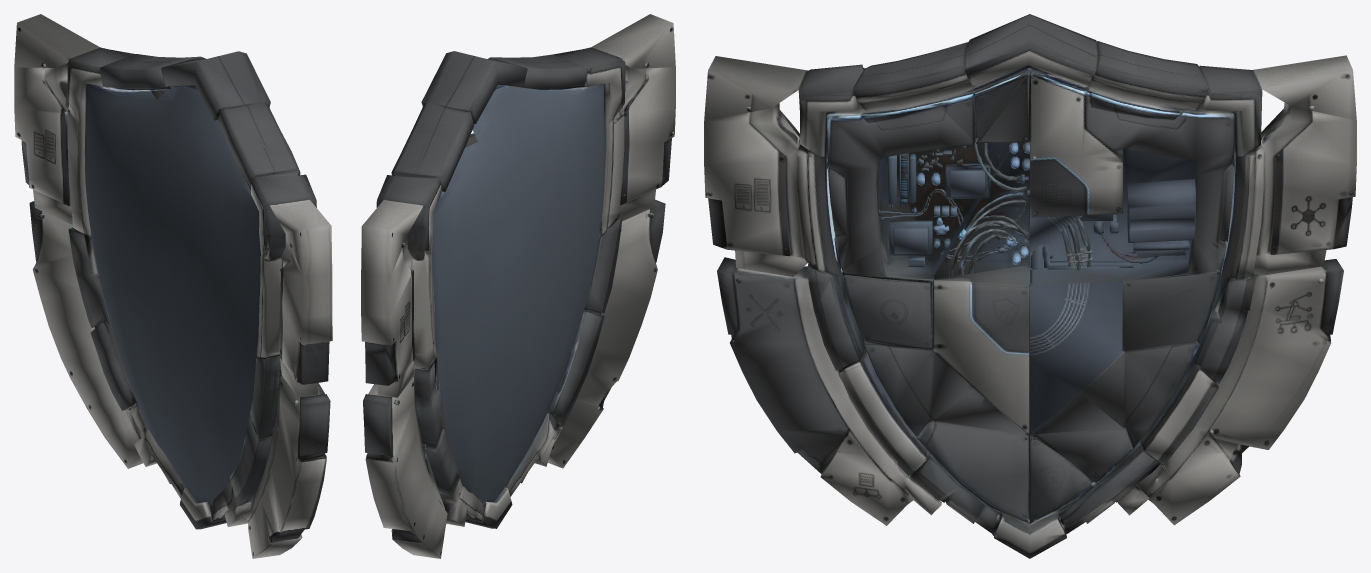
The picture shows the model from 3 angles, left to right: view 1: azimuth 30°, elevation 25°; view 2: azimuth 150°, elevation 25°; view 3: azimuth 270°, elevation 25°; orthographic projection. The views are drawn at different scales.
Parts seen in each view (by area): view 1: tripo_node_4ddd2667-0230-485d-8b1d-b2297cb9bfb7; view 2: tripo_node_4ddd2667-0230-485d-8b1d-b2297cb9bfb7; view 3: tripo_node_4ddd2667-0230-485d-8b1d-b2297cb9bfb7.
Part boxes in pixels (bbox=[...]): tripo_node_4ddd2667-0230-485d-8b1d-b2297cb9bfb7: bbox=[14, 14, 332, 558]; tripo_node_4ddd2667-0230-485d-8b1d-b2297cb9bfb7: bbox=[361, 14, 675, 558]; tripo_node_4ddd2667-0230-485d-8b1d-b2297cb9bfb7: bbox=[704, 14, 1356, 558].
Size of the model in its own units: 0.1777 by 0.8809 by 0.998.
Materials: 1 (1 with a texture image).
